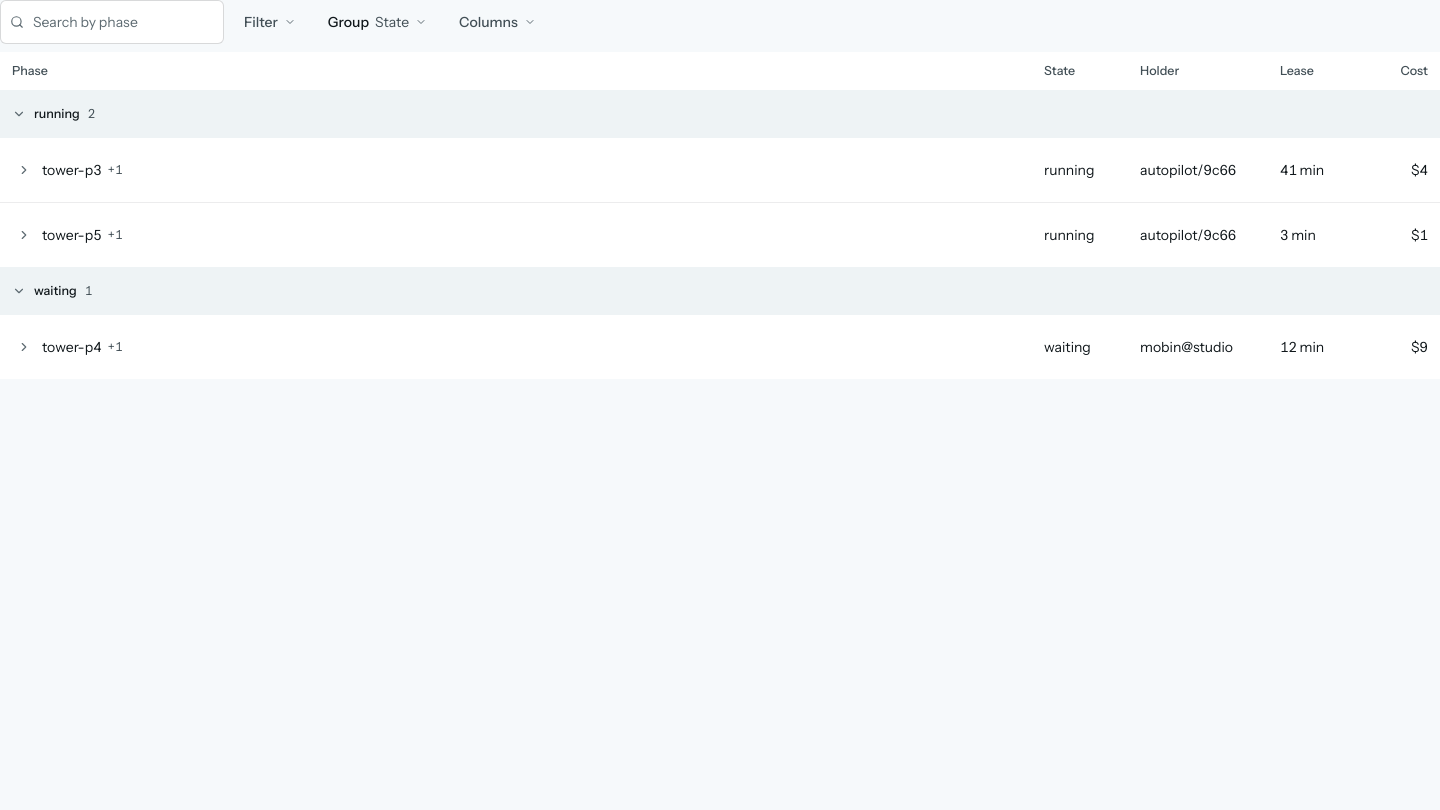
grouping › turned off by the operator, stays off whatever the grid defaults to
Expected: the button "running 2" is shown, left=12, top=92, right=1428, bottom=136
Click the button "Group State" at (377, 22), box left=316, top=0, right=439, bottom=44
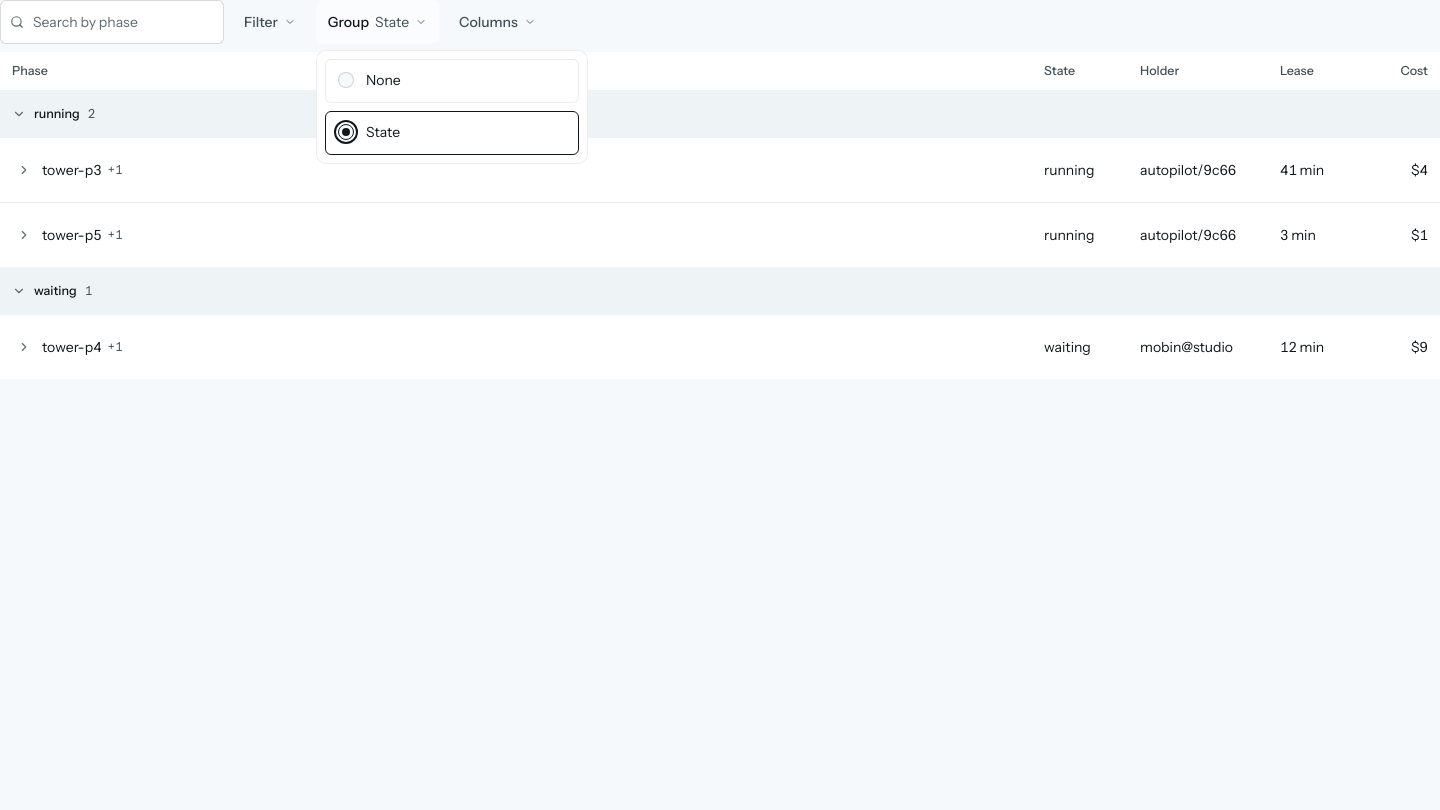
Click the radio button named "None" next to "None" at (346, 80), box left=338, top=72, right=354, bottom=88
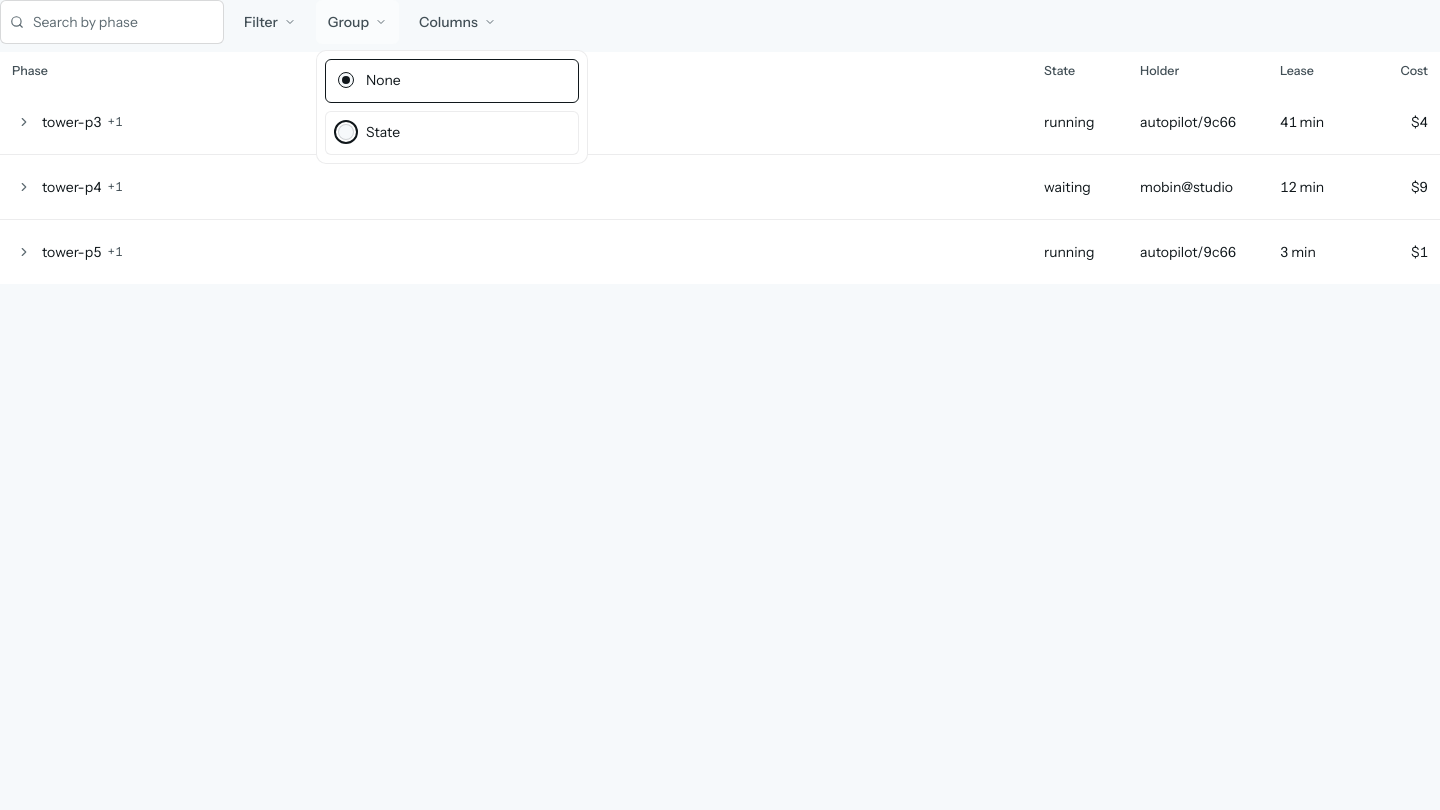
Press Escape in the dialog named "Group", box left=316, top=50, right=588, bottom=164
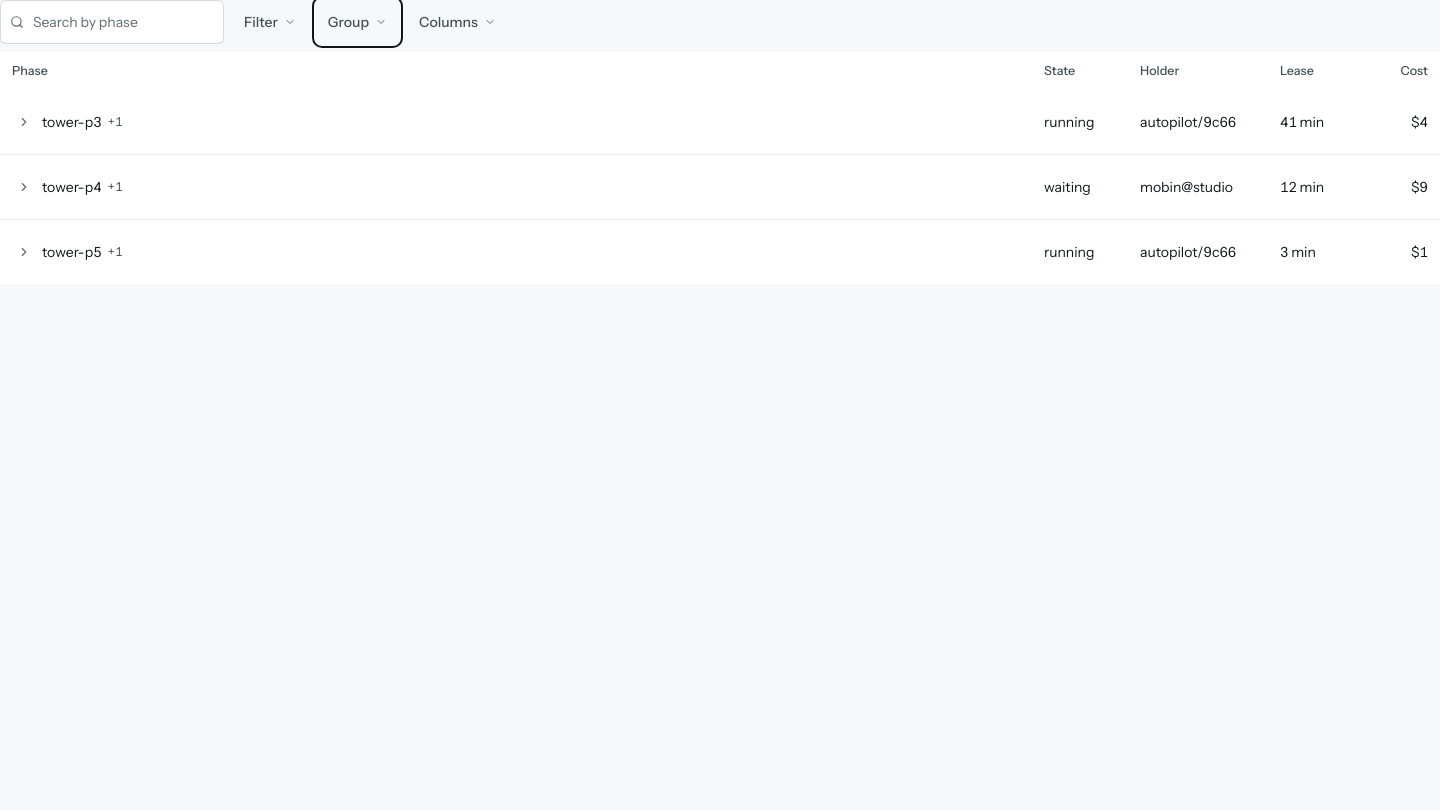
Result: the dialog is gone
